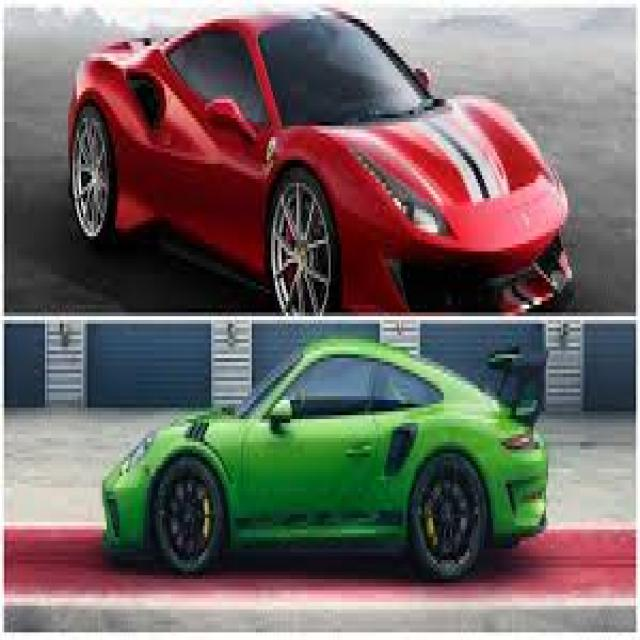Car: (64, 0, 566, 306), (95, 332, 555, 576)
